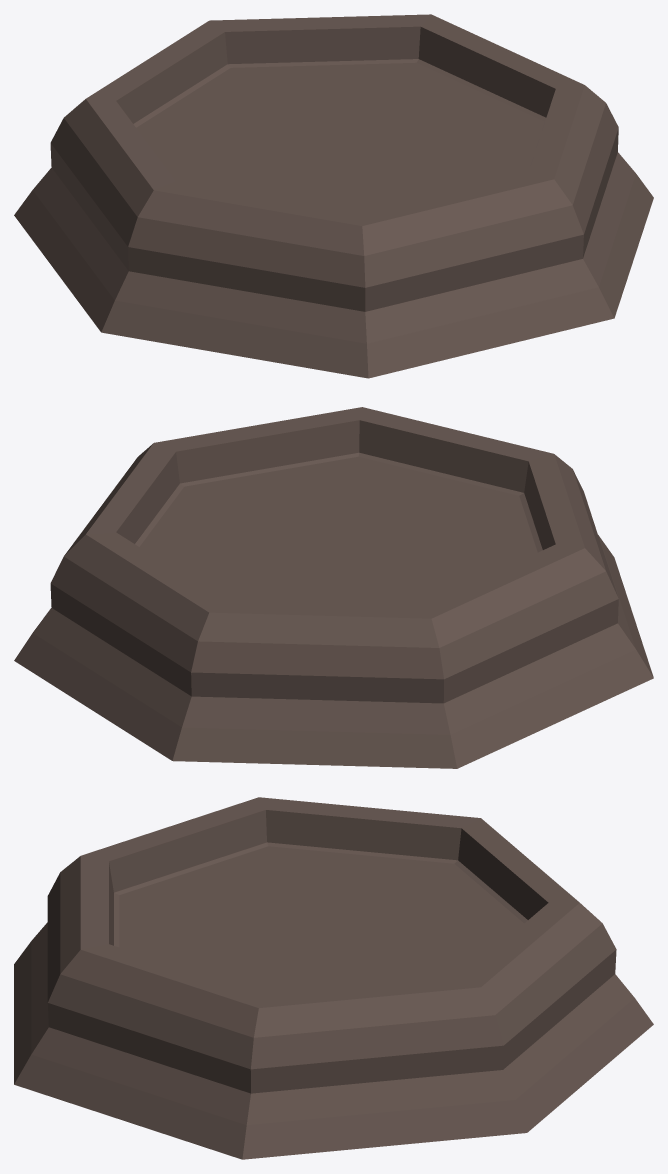
Rendered from tapa vaso.fbx.
The picture shows the model from 3 angles, top to bottom: view 1: azimuth 30°, elevation 25°; view 2: azimuth 150°, elevation 25°; view 3: azimuth 270°, elevation 25°; orthographic projection.
Parts seen in each view (by area): view 1: tapa.001; view 2: tapa.001; view 3: tapa.001.
Part boxes in pixels (left/top/right/bottom): tapa.001: left=14, top=14, right=653, bottom=378; tapa.001: left=14, top=407, right=653, bottom=768; tapa.001: left=14, top=797, right=653, bottom=1159.
Size of the model in its own units: 11.47 by 11.47 by 2.41.
